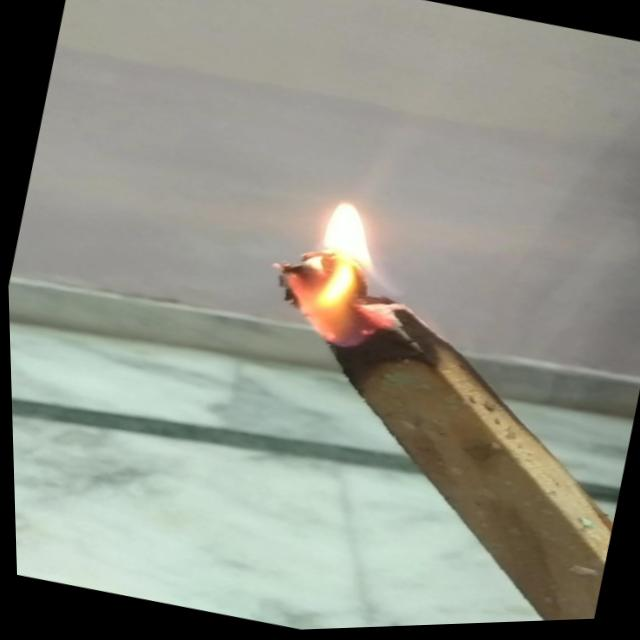fire: (248, 176, 432, 373)
